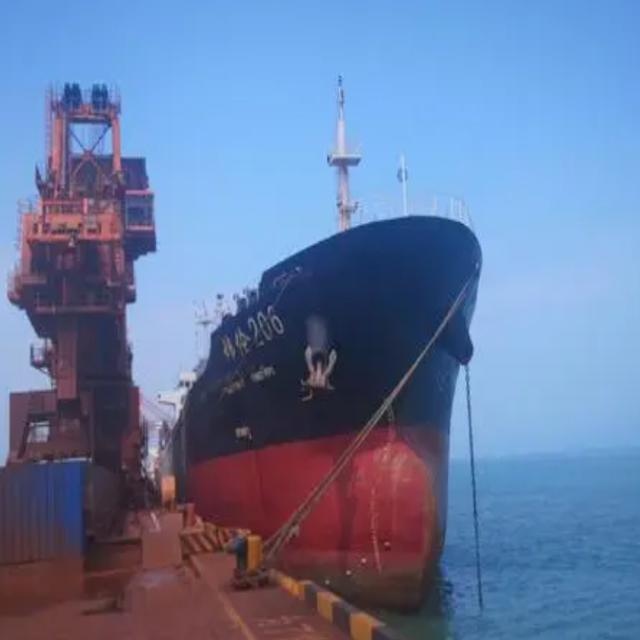cargoship: (168, 190, 482, 609)
